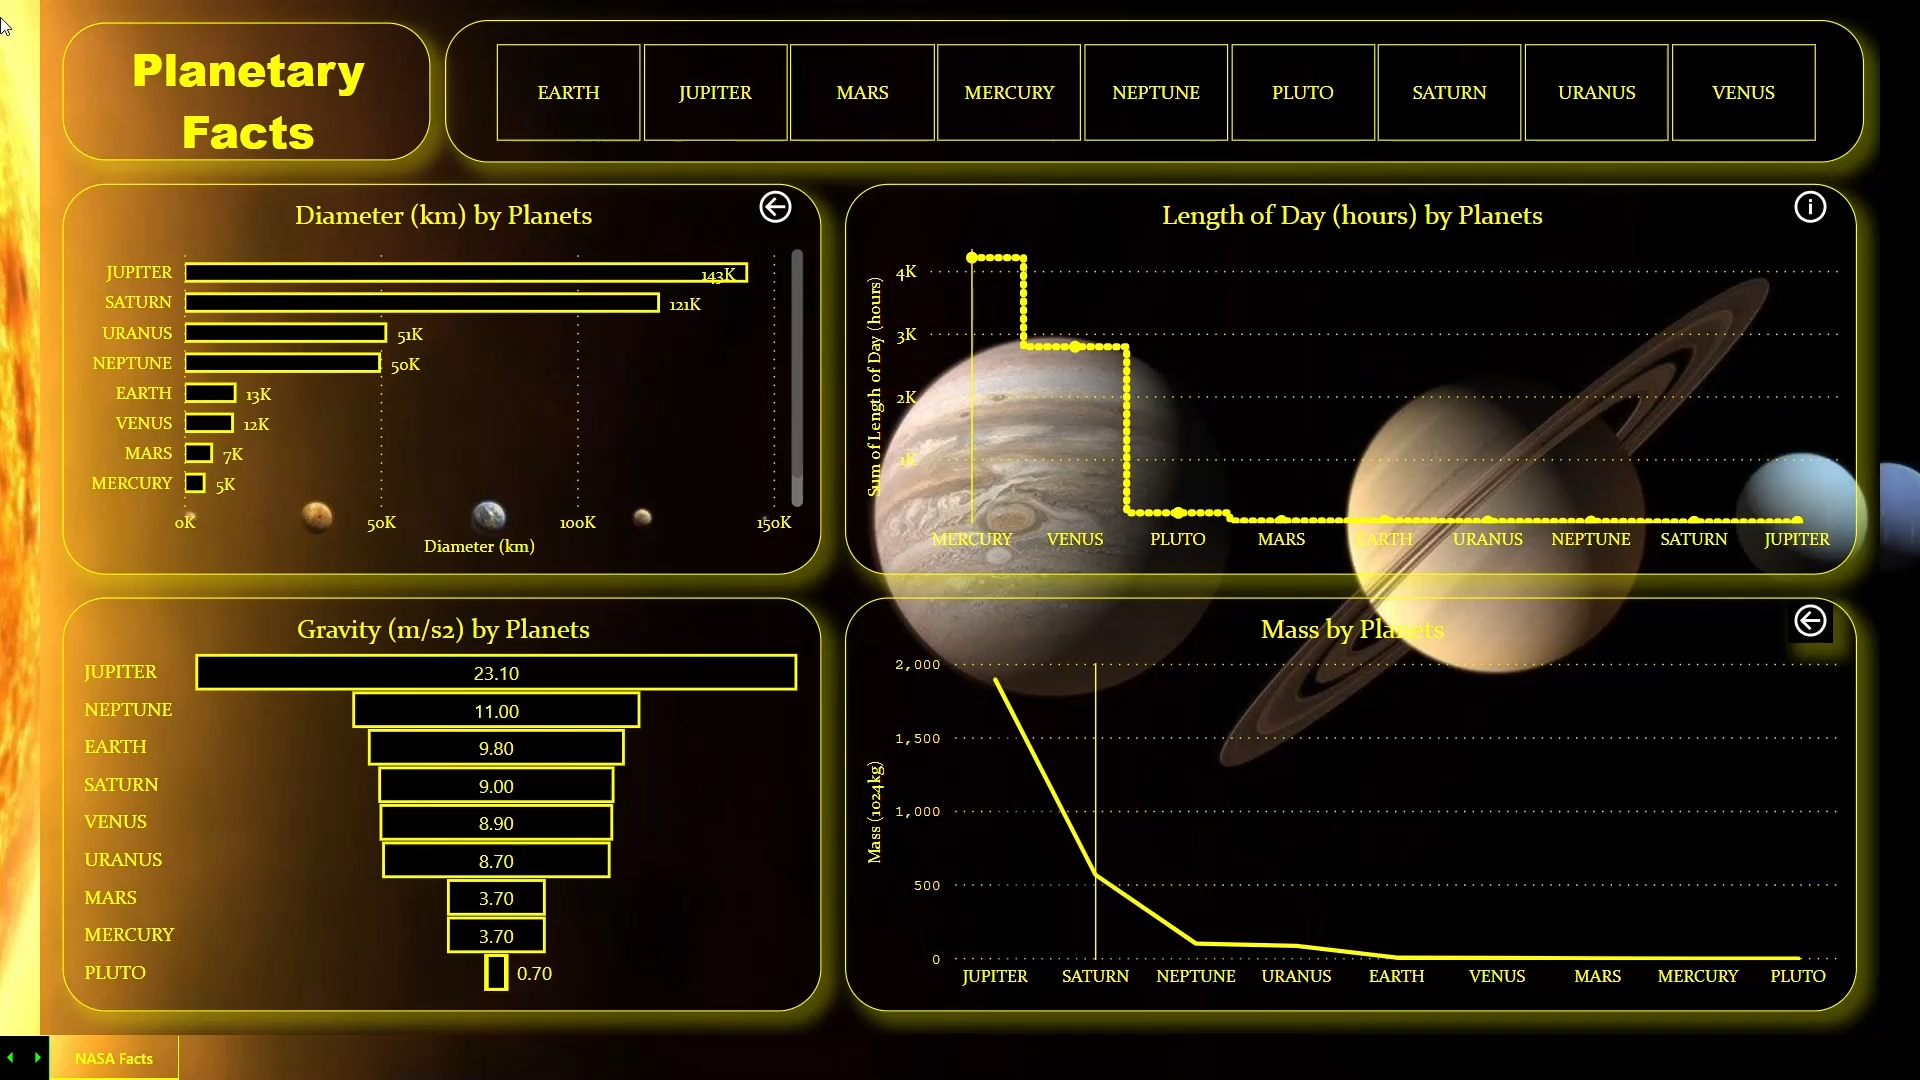

Layout of this report page (visuals, bound fields, positions):
{"tool":"powerbi","page":{"name":"NASA Facts","canvas":[1280,720],"ordinal":0},"visuals":[{"type":"textbox","title":"Planetary Facts","box":[16,16,256,96],"z":0},{"type":"stackedAreaChart","title":"Mass by Planets","fields":{"Category":["req_table.Planets"],"Y":["Sum(req_table.Mass (1024kg))"]},"box":[560,416,704,288],"z":1000},{"type":"barChart","fields":{"Category":["req_table.Planets"],"Y":["Sum(req_table.Diameter (km))"]},"box":[16,128,528,272],"z":2000},{"type":"funnel","fields":{"Category":["req_table.Planets"],"Y":["Sum(req_table.Gravity (m/s2))"]},"box":[16,416,528,288],"z":3000},{"type":"lineChart","title":"Length of Day (hours) by Planets","fields":{"Category":["req_table.Planets"],"Y":["Sum(req_table.Length of Day (hours))"]},"box":[560,128,704,272],"z":4000},{"type":"slicer","fields":{"Values":["req_table.Planets"]},"box":[281.5,13.7,987.5,98.9],"z":5000},{"type":"actionButton","box":[496,128,32,32],"z":6000},{"type":"actionButton","box":[1216,128,32,32],"z":7000},{"type":"actionButton","box":[1216,416,32,32],"z":8000}]}

Visuals, with their boxes on the page's 1280x720 design canvas (x1, y1, x2, y2). These are canvas units, not pixel positions in the 1920x1080 screenshot, which may show the page scaled, cropped or inside an application window:
"Planetary Facts" textbox: [16, 16, 272, 112]
"Mass by Planets" stackedAreaChart: [560, 416, 1264, 704]
barChart - req_table.Planets x Sum(req_table.Diameter (km)): [16, 128, 544, 400]
funnel - req_table.Planets x Sum(req_table.Gravity (m/s2)): [16, 416, 544, 704]
"Length of Day (hours) by Planets" lineChart: [560, 128, 1264, 400]
slicer - req_table.Planets: [282, 14, 1269, 113]
actionButton: [496, 128, 528, 160]
actionButton: [1216, 128, 1248, 160]
actionButton: [1216, 416, 1248, 448]
